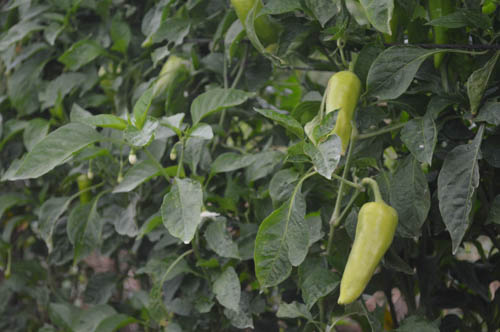ChiliPepper: (335, 201, 401, 307), (323, 69, 358, 153)
